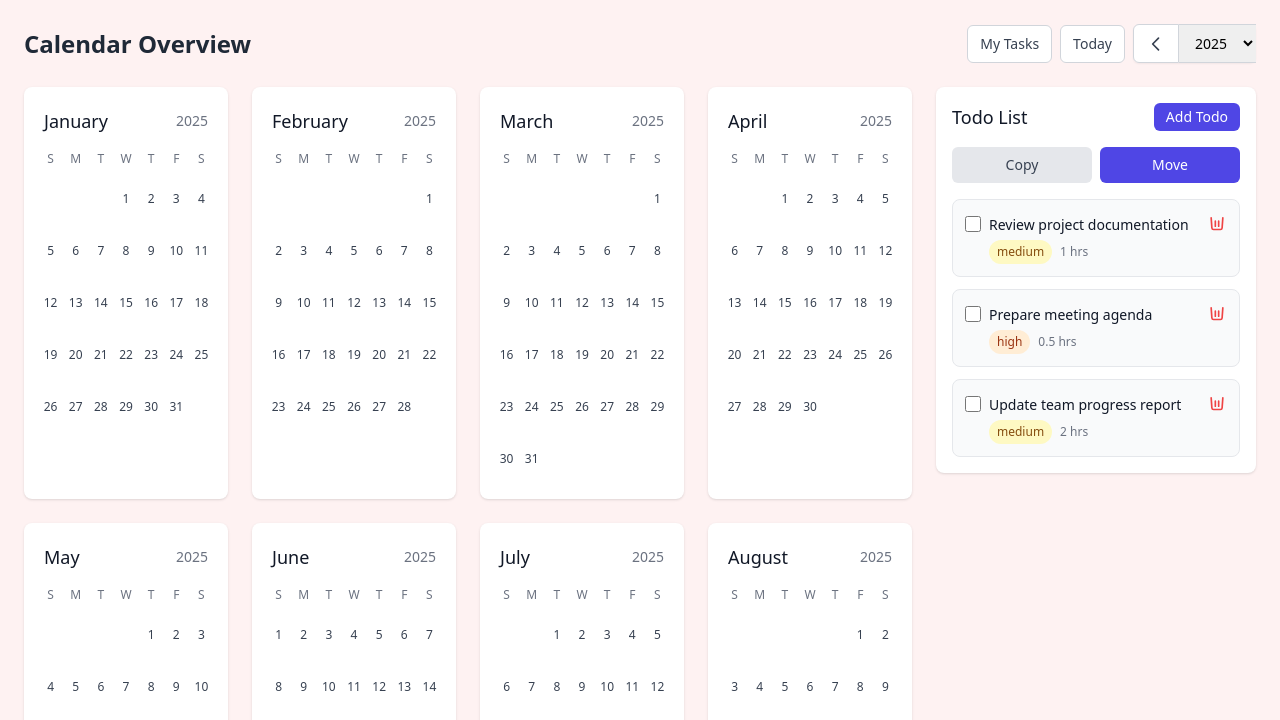
it: EnhancedCalendar - Rebuilt › toggles between My Tasks and All Tasks
Click the button "My Tasks": coordinates (1010, 44) top-left (967, 24), bottom-right (1052, 62)
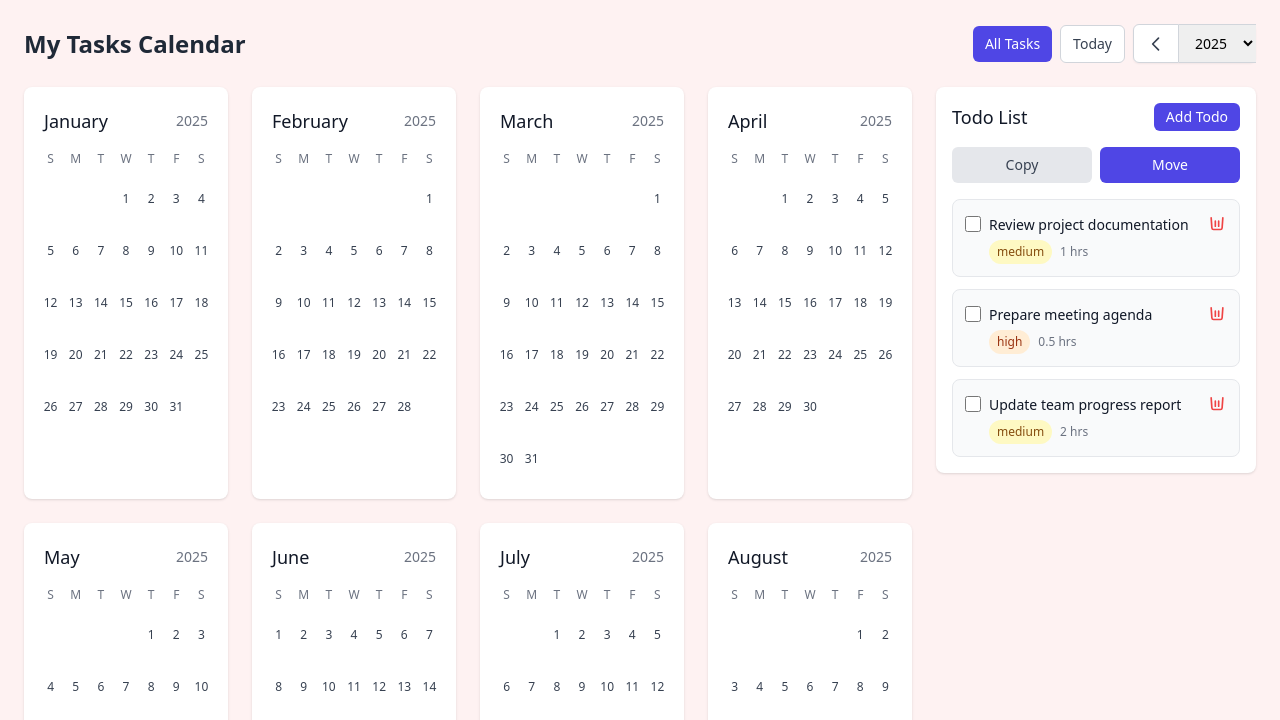
Now the button "All Tasks" is shown
Click the button "All Tasks": coordinates (1012, 44) top-left (973, 26), bottom-right (1052, 62)
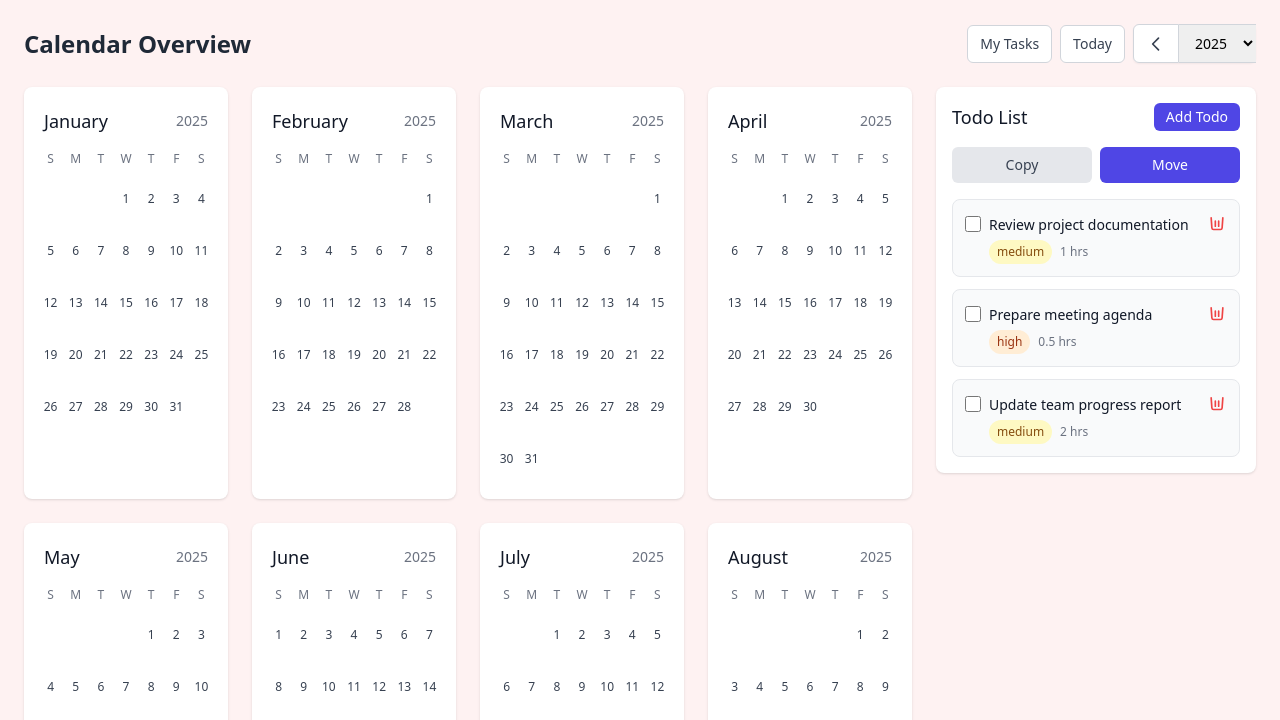
Now the button "My Tasks" is shown, box top-left (967, 24), bottom-right (1052, 62)
